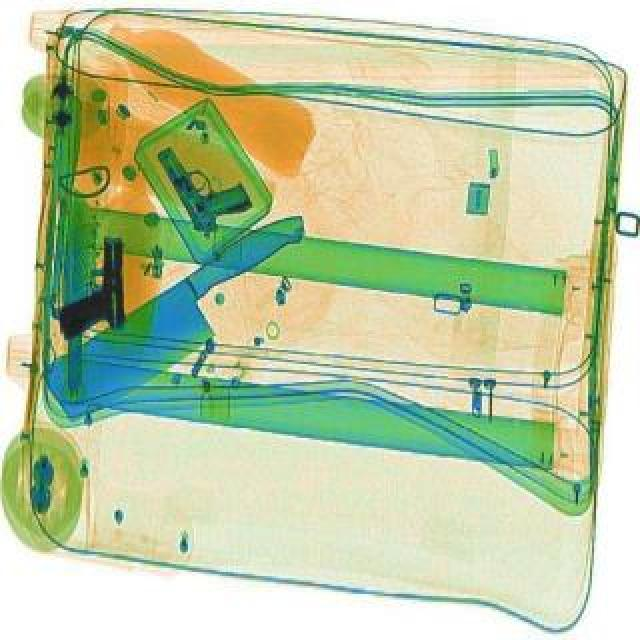gun: (150, 130, 258, 242), (54, 240, 124, 342)
knife: (32, 208, 334, 432), (32, 100, 84, 392), (52, 194, 96, 392)
